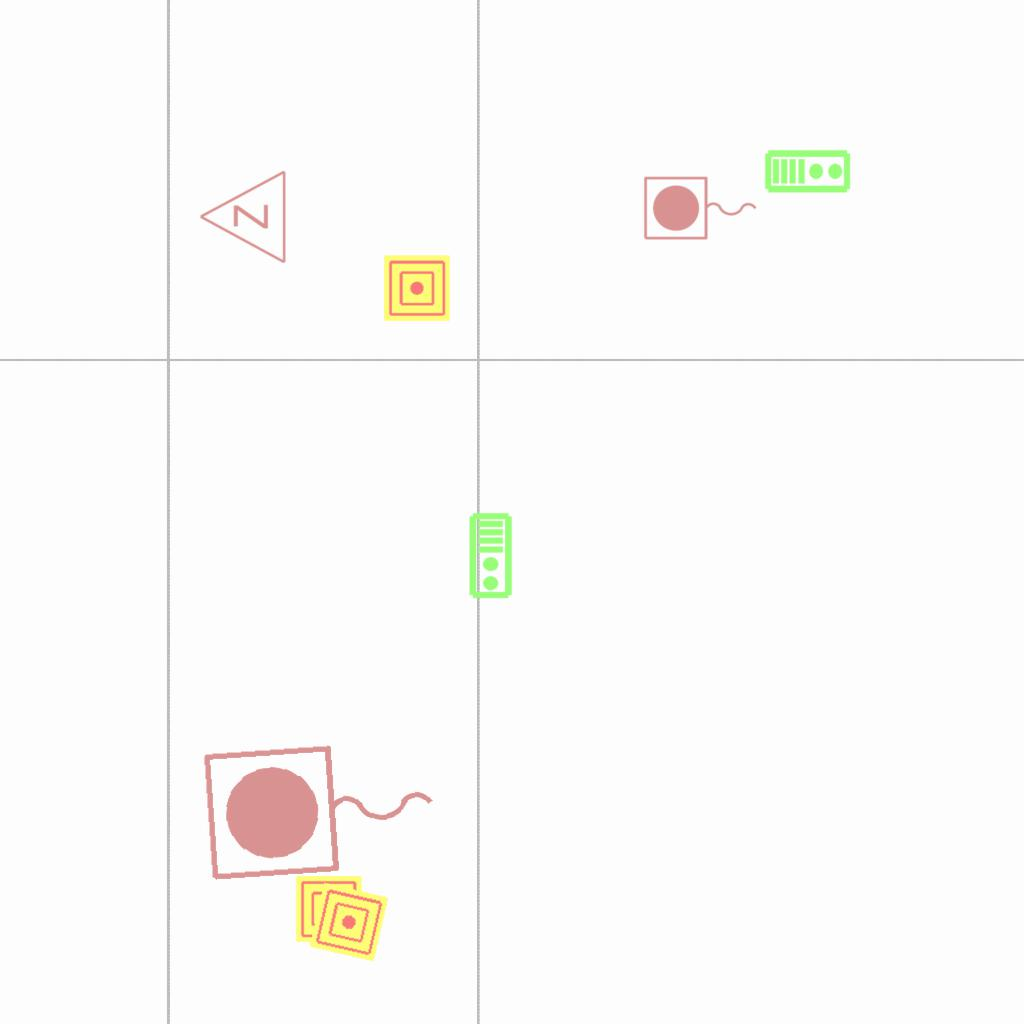Gegensprechanlage_mit_Video: (764, 147, 852, 194), (468, 512, 515, 600)
NAM-Nichtautomatischer_Melder: (309, 882, 389, 962), (384, 255, 450, 321), (296, 876, 362, 942)
Zimmersignalleuchte: (193, 169, 293, 267)
Zugtaster: (195, 730, 449, 892), (640, 173, 762, 245)
